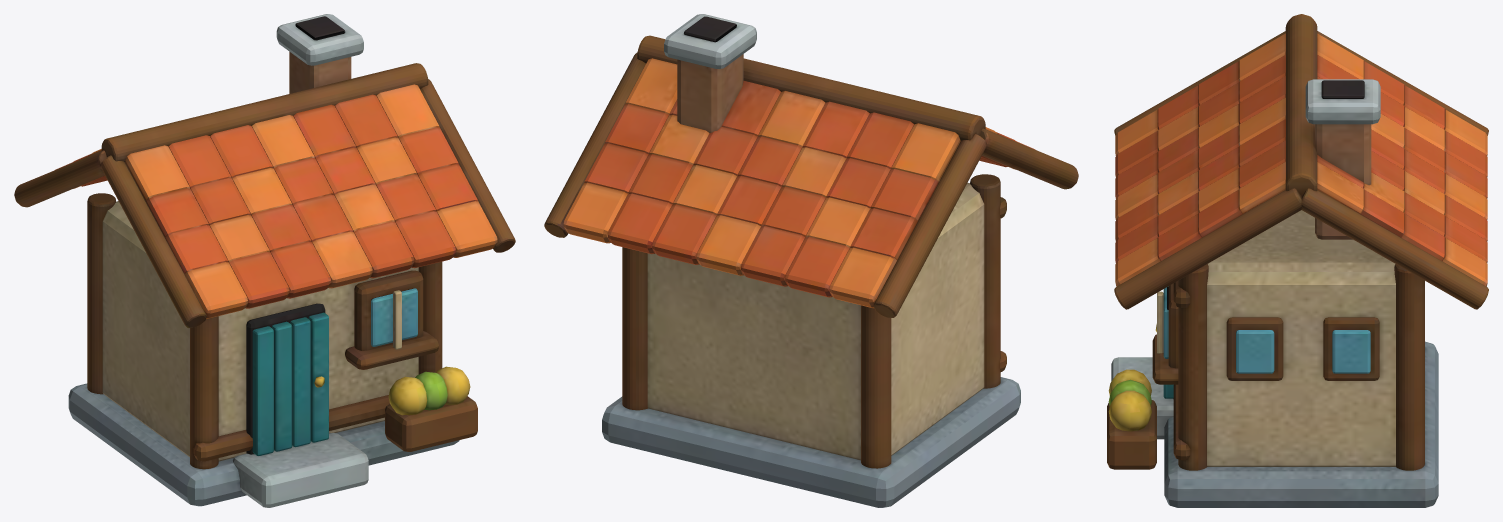
The model's file is shelter.glb.
3 renders of one model, left to right at view 1: azimuth 30°, elevation 25°; view 2: azimuth 150°, elevation 25°; view 3: azimuth 270°, elevation 25°, orthographic. The views are drawn at different scales.
Parts seen in each view (by area): view 1: Cap; view 2: Cap; view 3: Cap.
Boxes of the visible parts, x1,y1,x2,y2 form: Cap: [14, 14, 515, 507]; Cap: [544, 14, 1078, 507]; Cap: [1107, 14, 1488, 507].
Size of the model in its own units: 2.41 by 2.61 by 2.3.
1 material, 1 textured.
